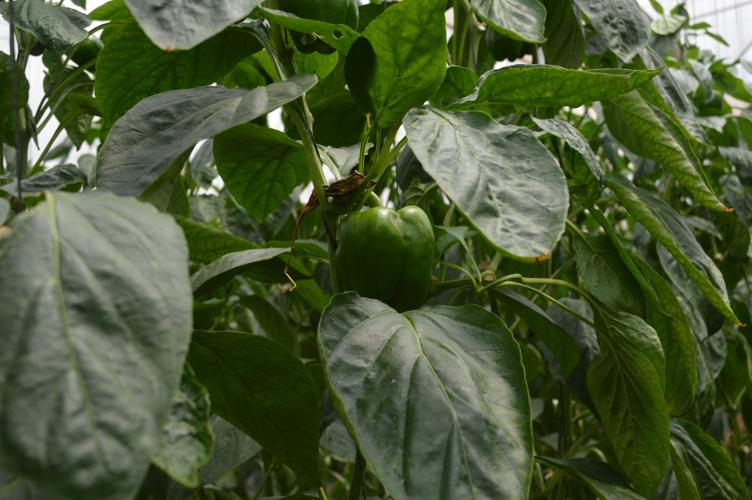BellPepper: (328, 204, 438, 313)
